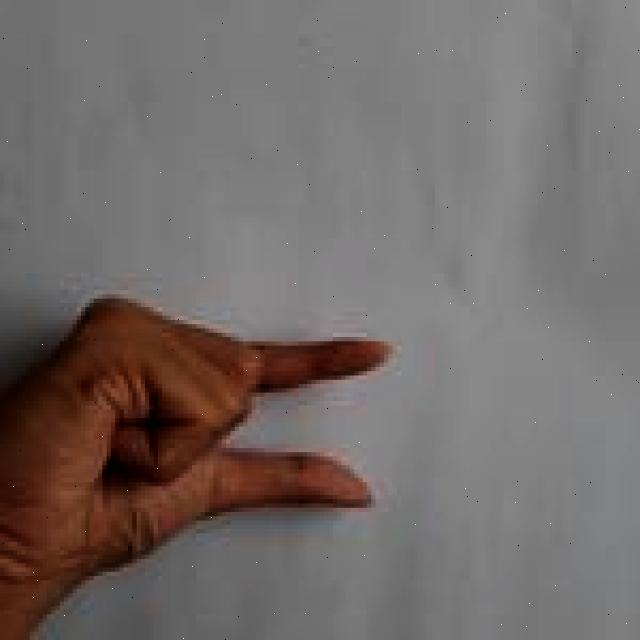G: (0, 286, 396, 640)
